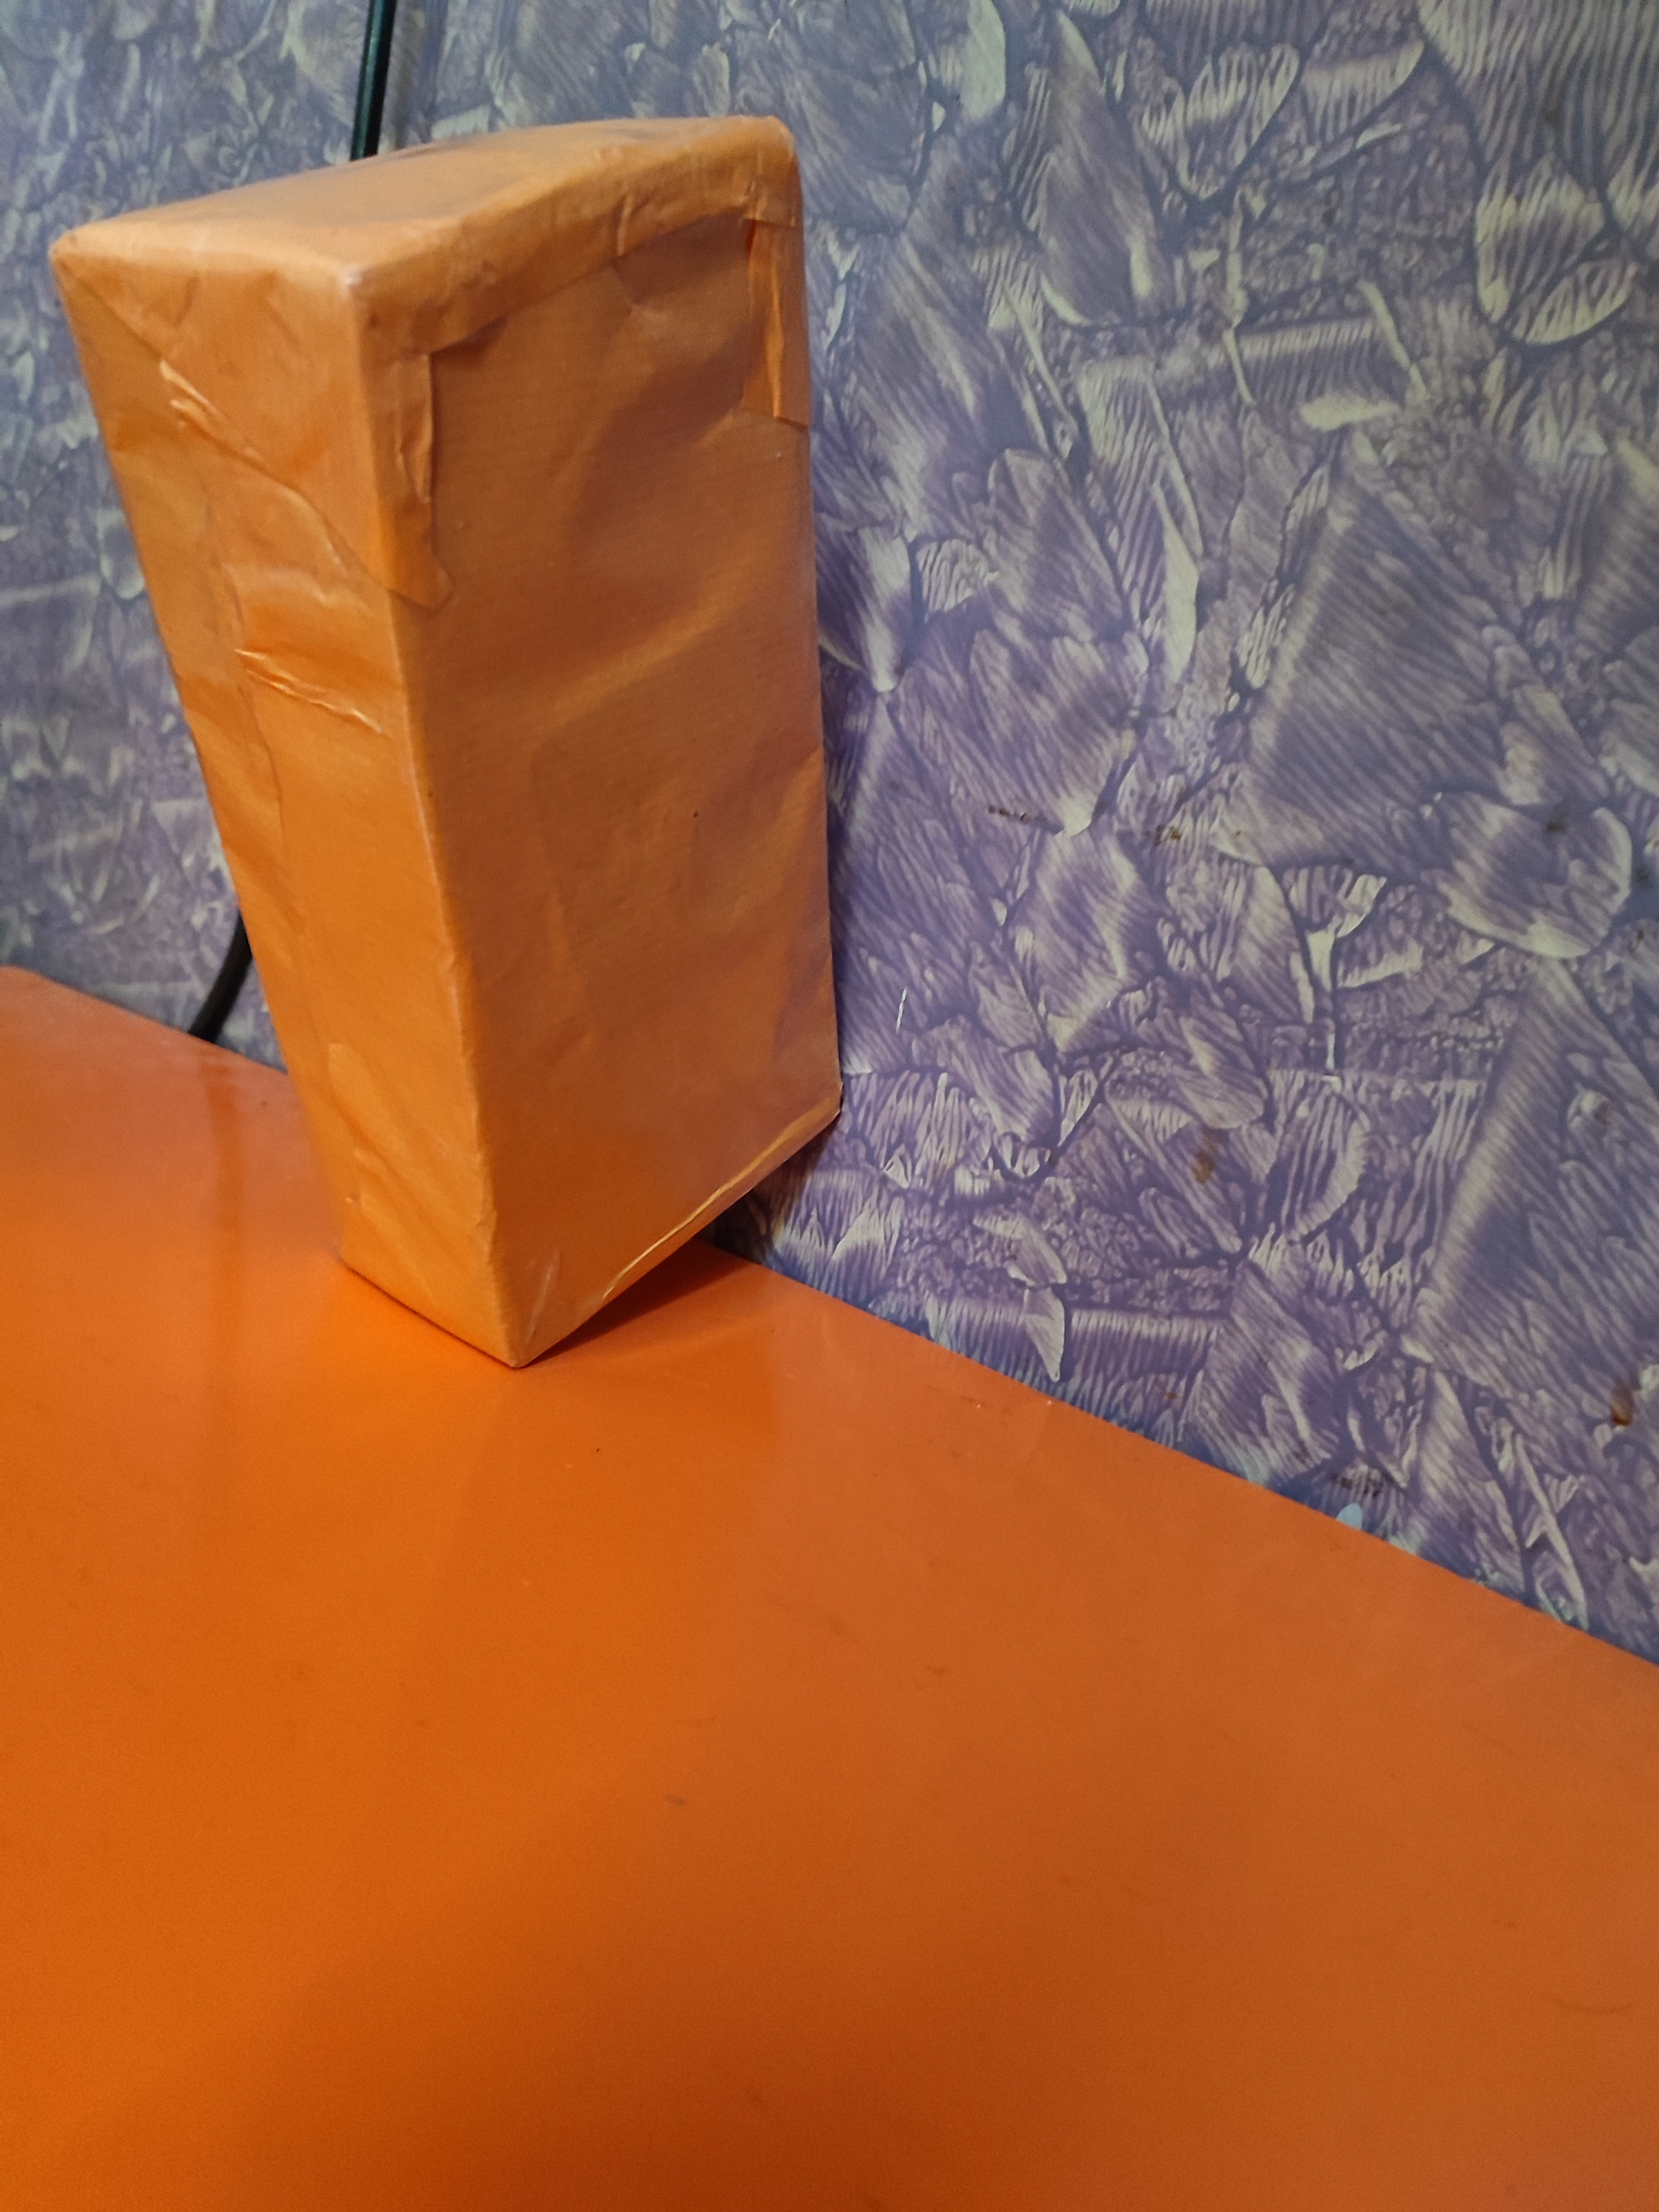Box: (33, 63, 915, 1564)
